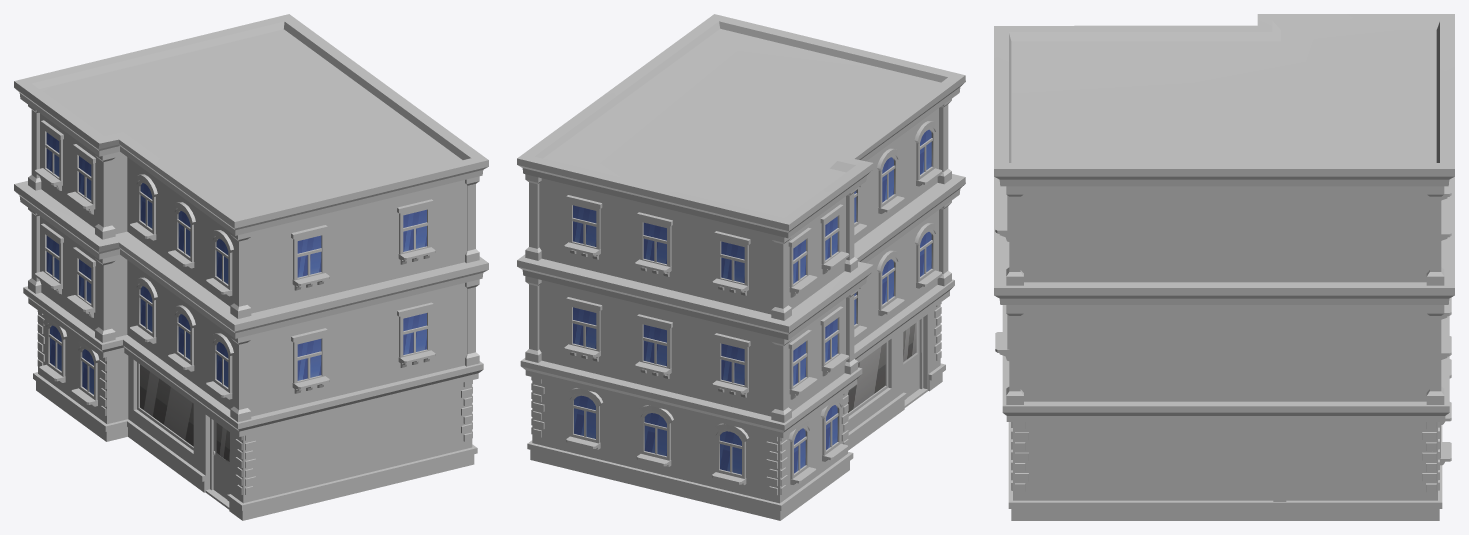
File: Building_1_3_R.fbx
3 renders of one model, left to right at view 1: azimuth 30°, elevation 25°; view 2: azimuth 150°, elevation 25°; view 3: azimuth 270°, elevation 25°, orthographic. The views are drawn at different scales.
Visible parts, largest first — view 1: Building_1_3_R; view 2: Building_1_3_R; view 3: Building_1_3_R.
Boxes of the visible parts, x1,y1,x2,y2 form: Building_1_3_R: (14,14,488,520); Building_1_3_R: (517,14,965,520); Building_1_3_R: (994,14,1454,520).
Size of the model in its own units: 841 by 900 by 1057.
